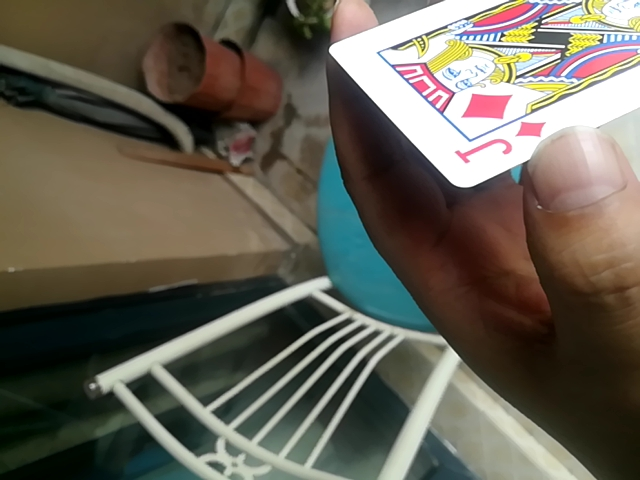fk j: (322, 0, 637, 195)
